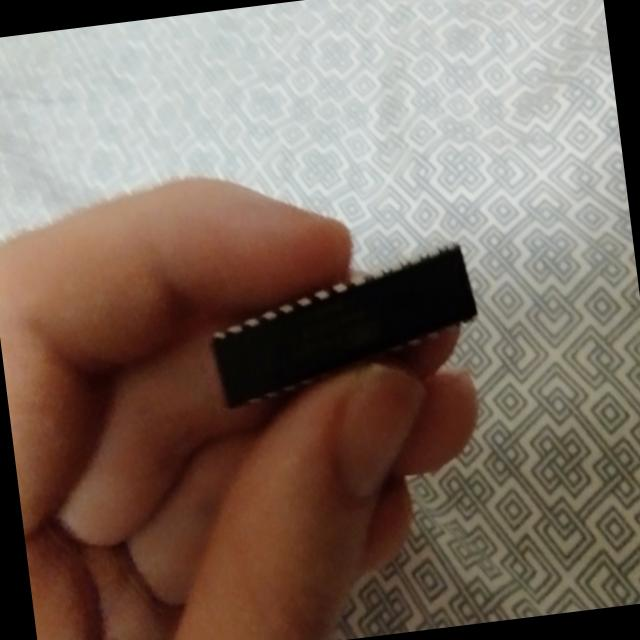atmega: (198, 236, 488, 414)
